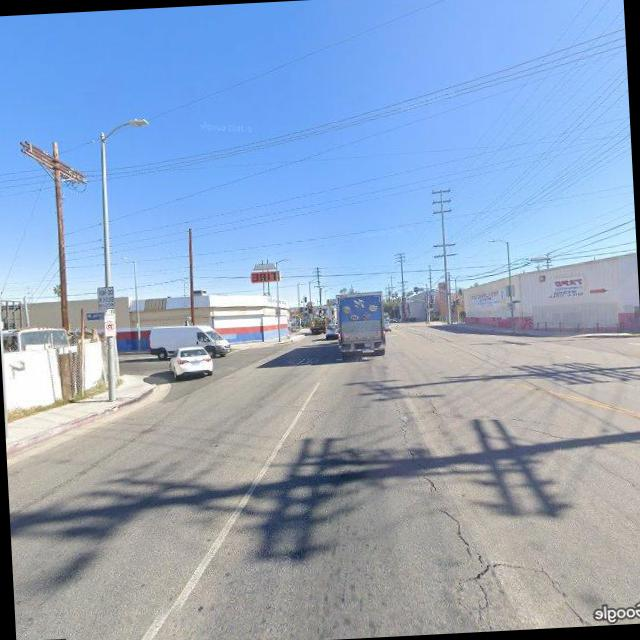pothole: (396, 392, 592, 634), (274, 396, 331, 452)
